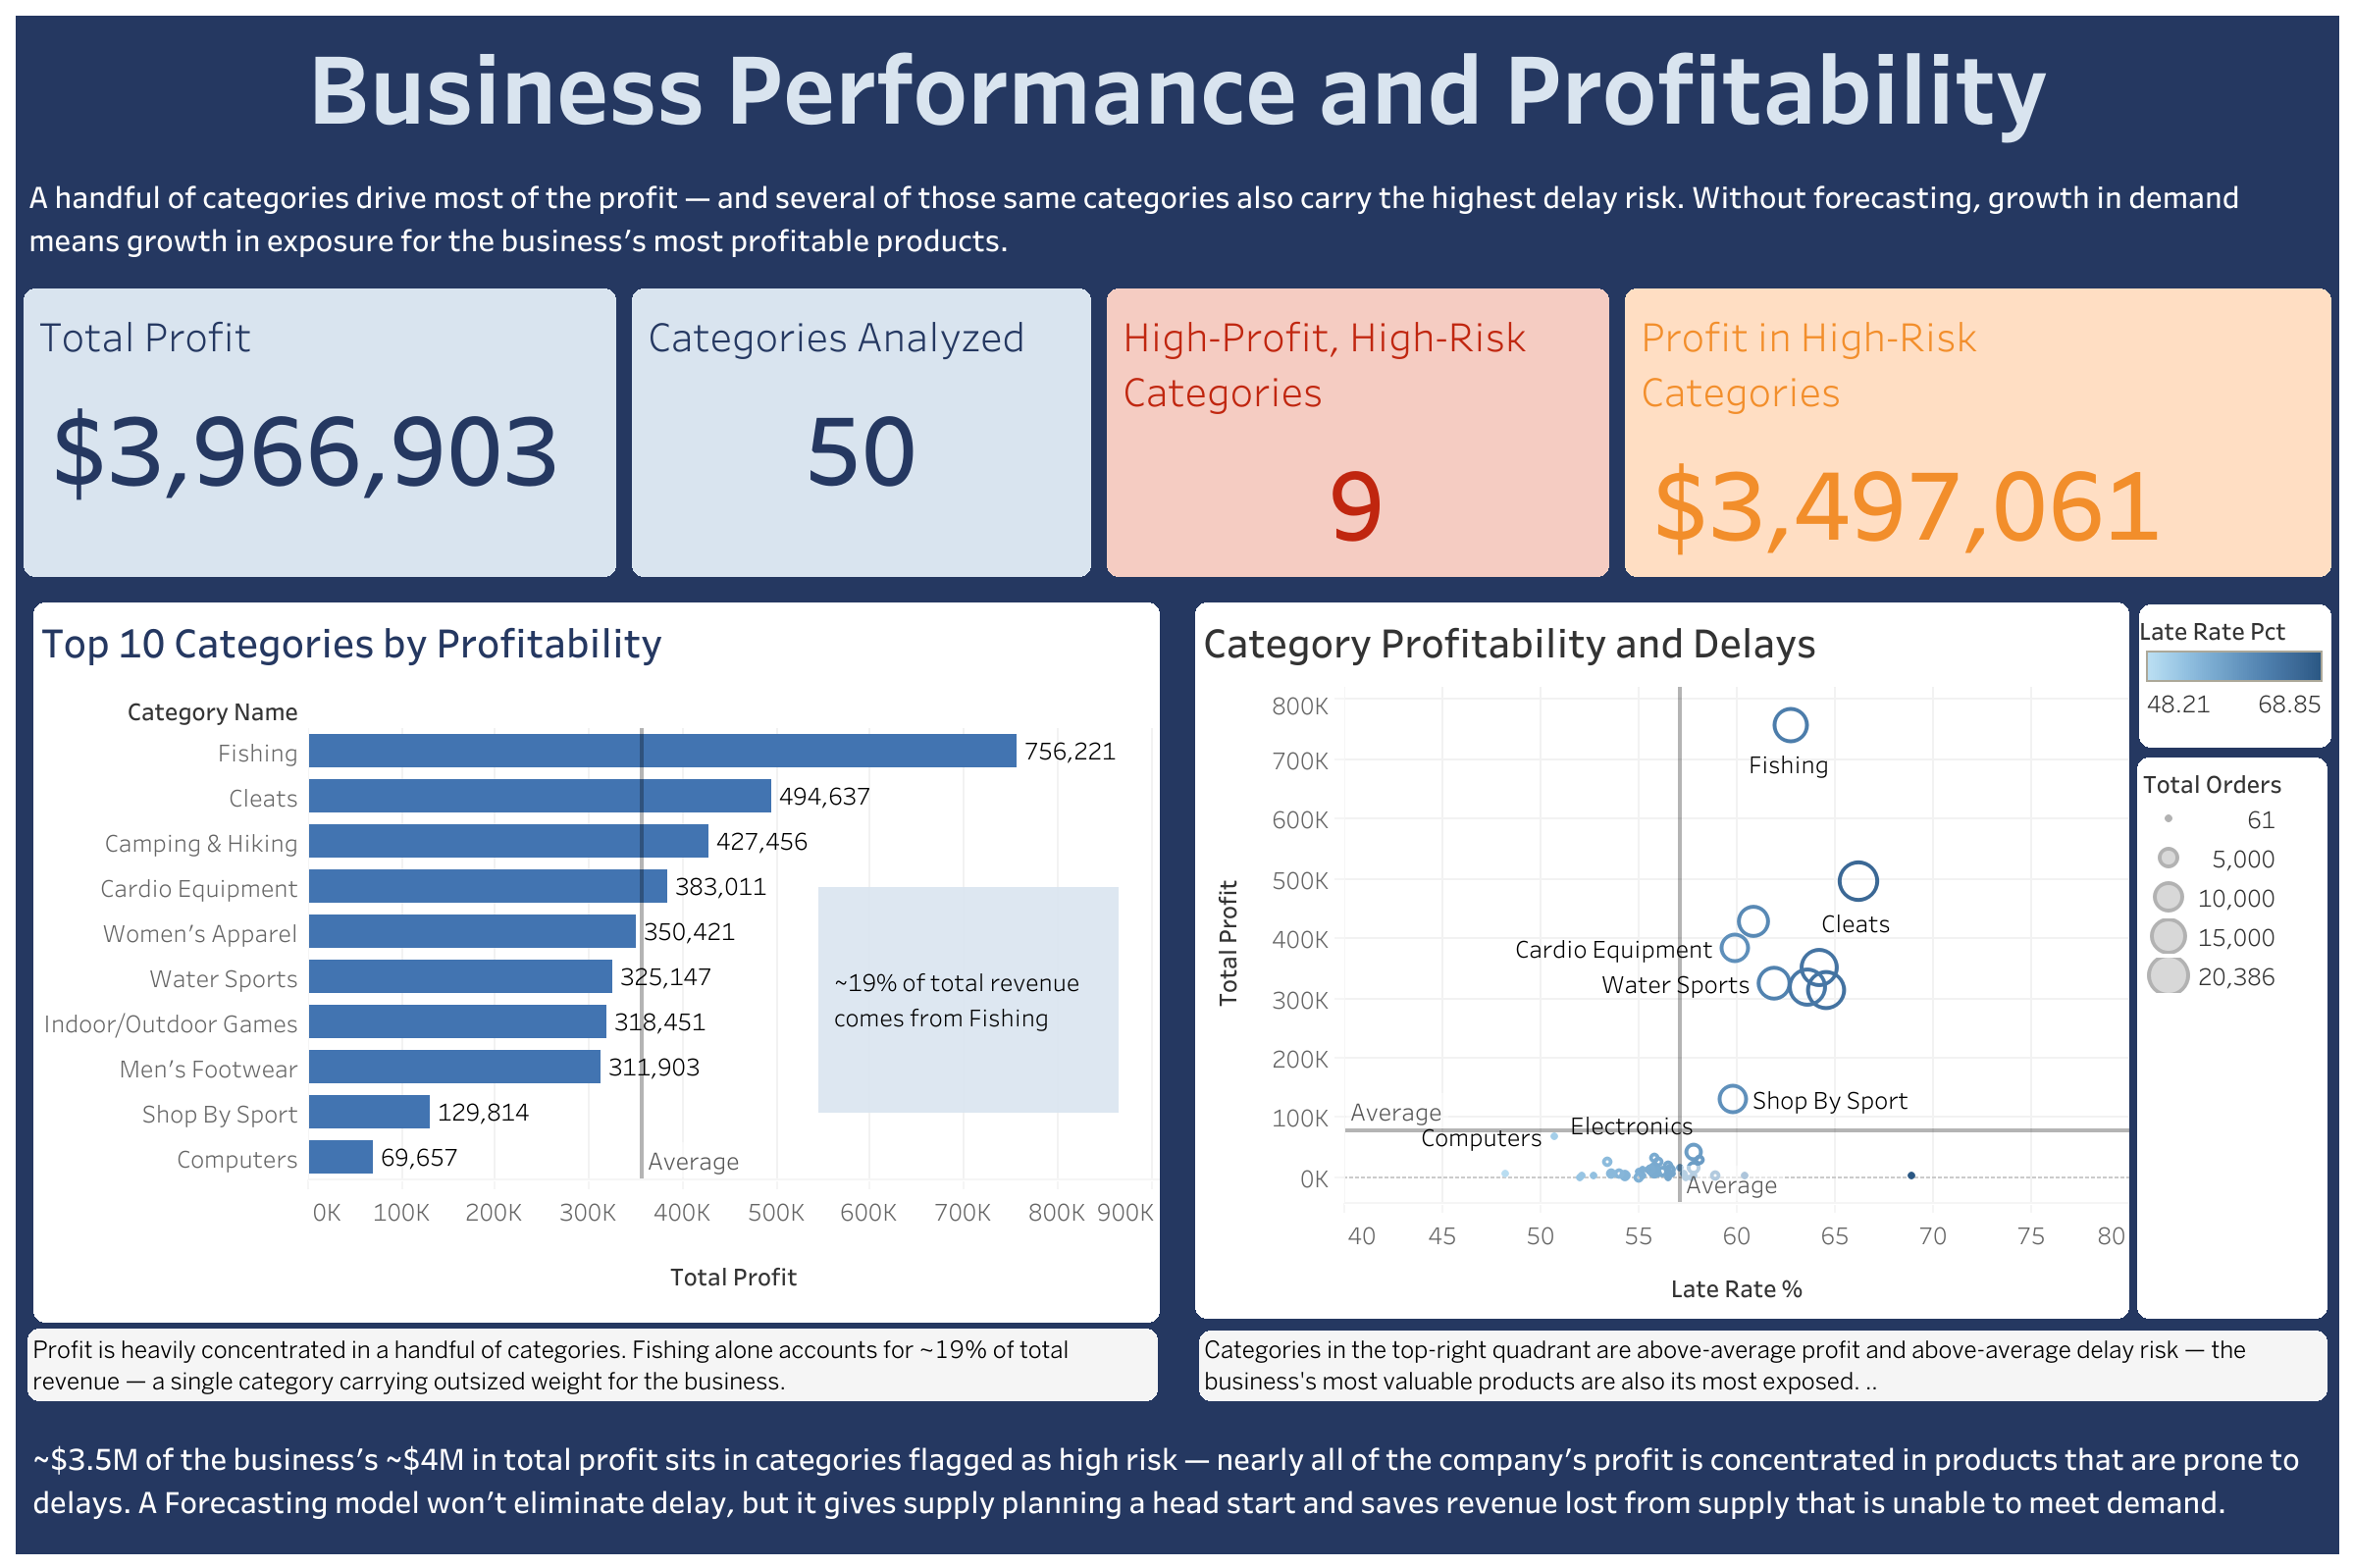

The page's visual inventory and layout, read from the dashboard file:
{"tool":"tableau","page":{"name":"Dashboard 3 - Business Performance & Profitability","canvas":[1200,800],"ordinal":2},"visuals":[{"type":"text","box":[8,8,1184,69.9]},{"type":"text","box":[8,77.9,1184,65.2]},{"type":"worksheet","title":"KPI_Total_Profit","mark":"Text","box":[12,147.1,302,146.9]},{"type":"worksheet","title":"KPI_Categories_Analyzed","mark":"Text","box":[322,147.1,234,146.9]},{"type":"worksheet","title":"KPI_High_Profit_High_Risk","mark":"Text","box":[564,147.1,256,145]},{"type":"worksheet","title":"KPI_Profit_in_High_Risk_Categories","mark":"Text","box":[828,147.1,360,145]},{"type":"worksheet","title":"Q4a Category Profitability","mark":"Automatic","rows":["category_name"],"cols":["total_profit"],"box":[13,303,582,375]},{"type":"worksheet","title":"Q6 Category Profitability Delay","mark":"Automatic","rows":["total_profit"],"cols":["late_rate_pct"],"box":[605,303,484,373]},{"type":"legend","title":"Q6 Category Profitability Delay","param":"[federated.010wa8p1iu16vd1gi19z81xtzuf5].[sum:late_rate_pct:qk]","box":[1090,308,98,73]},{"type":"legend","title":"Q6 Category Profitability Delay","param":"[federated.010wa8p1iu16vd1gi19z81xtzuf5].[sum:total_orders:qk]","box":[1089,386,97,286]},{"type":"text","box":[12,675,580,41]},{"type":"text","box":[609,676,579,40]},{"type":"text","box":[14,718,1176,72]}]}

Visuals, with their boxes in screenshot pixels (x1, y1, x2, y2), scaled from the page's 1200x800 canvas onto the 2353x1568 screenshot:
text: {"left": 16, "top": 16, "right": 2337, "bottom": 153}
text: {"left": 16, "top": 153, "right": 2337, "bottom": 281}
"KPI_Total_Profit" worksheet (Text marks): {"left": 24, "top": 288, "right": 615, "bottom": 576}
"KPI_Categories_Analyzed" worksheet (Text marks): {"left": 631, "top": 288, "right": 1090, "bottom": 576}
"KPI_High_Profit_High_Risk" worksheet (Text marks): {"left": 1106, "top": 288, "right": 1608, "bottom": 572}
"KPI_Profit_in_High_Risk_Categories" worksheet (Text marks): {"left": 1624, "top": 288, "right": 2329, "bottom": 572}
"Q4a Category Profitability" worksheet: {"left": 26, "top": 594, "right": 1167, "bottom": 1329}
"Q6 Category Profitability Delay" worksheet: {"left": 1186, "top": 594, "right": 2135, "bottom": 1325}
"Q6 Category Profitability Delay" legend: {"left": 2137, "top": 603, "right": 2329, "bottom": 747}
"Q6 Category Profitability Delay" legend: {"left": 2135, "top": 757, "right": 2326, "bottom": 1317}
text: {"left": 24, "top": 1323, "right": 1161, "bottom": 1403}
text: {"left": 1194, "top": 1325, "right": 2329, "bottom": 1403}
text: {"left": 27, "top": 1407, "right": 2333, "bottom": 1548}
